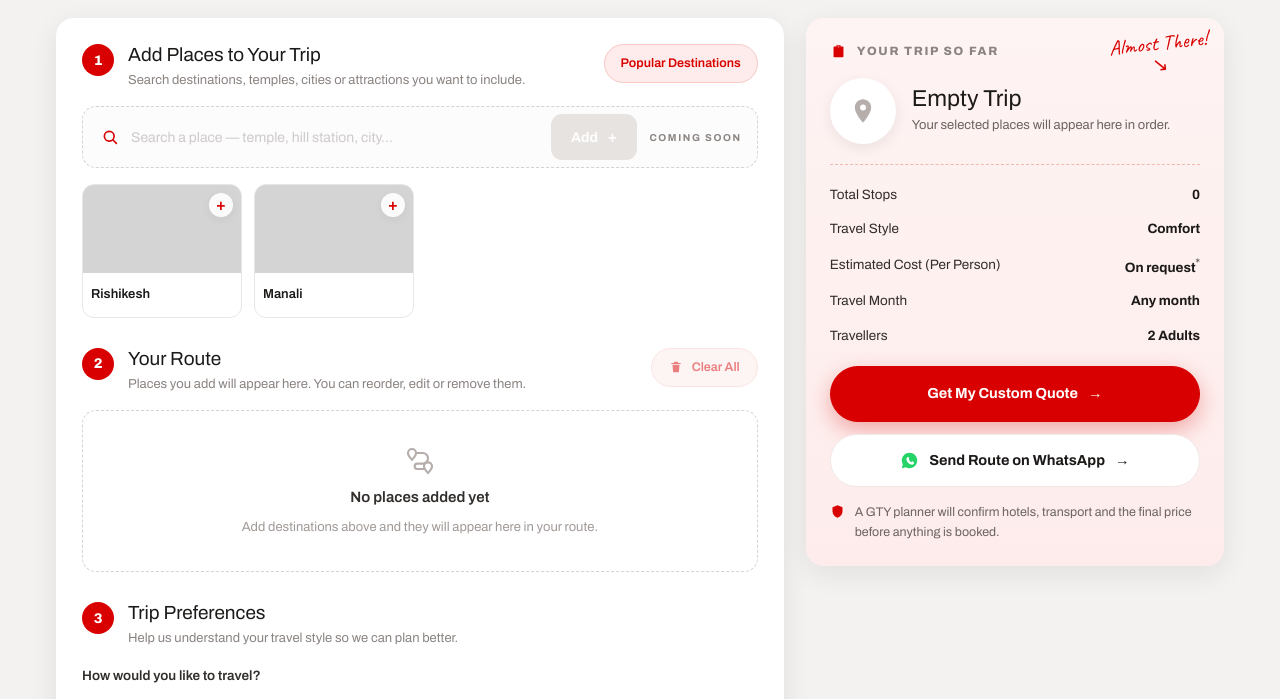
Test: TripBuilder interaction › adding a place puts it in the route with a default of 2 nights
What coordinates should you click on to do the following:
click the button "+ Rishikesh"
I would click on:
 (162, 251)
Its box is [82,184,242,318].
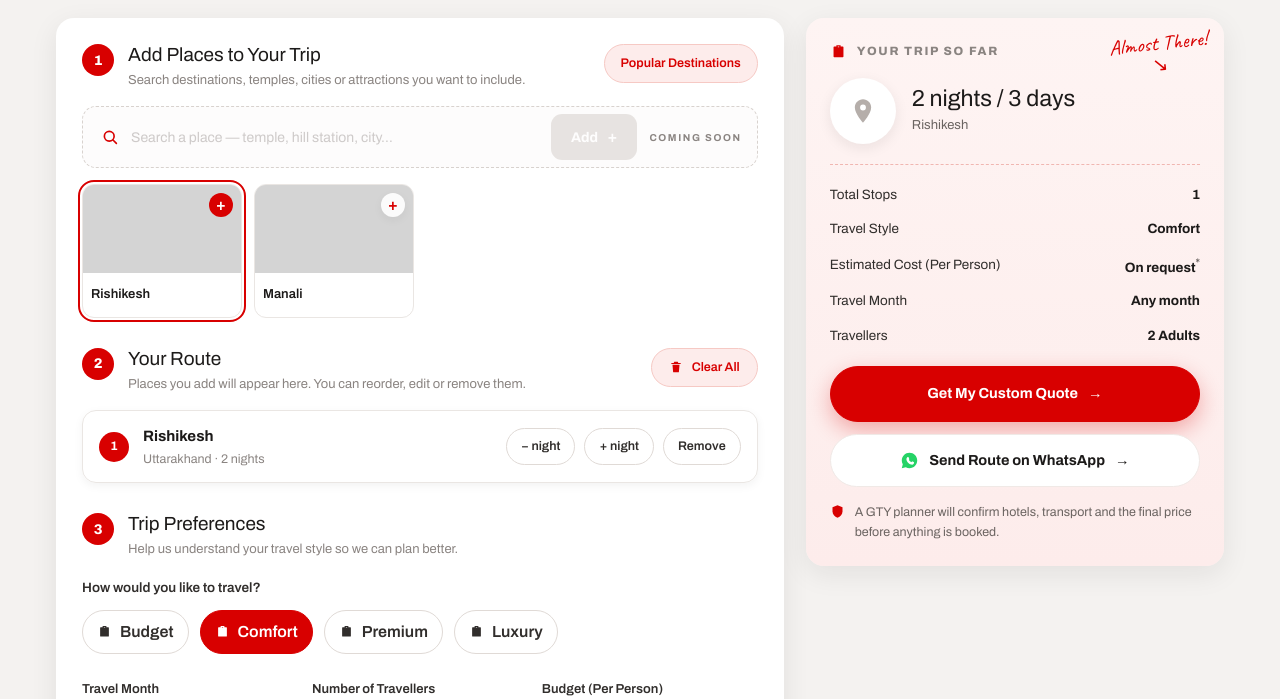
Expected: the text "No places added yet" is gone
